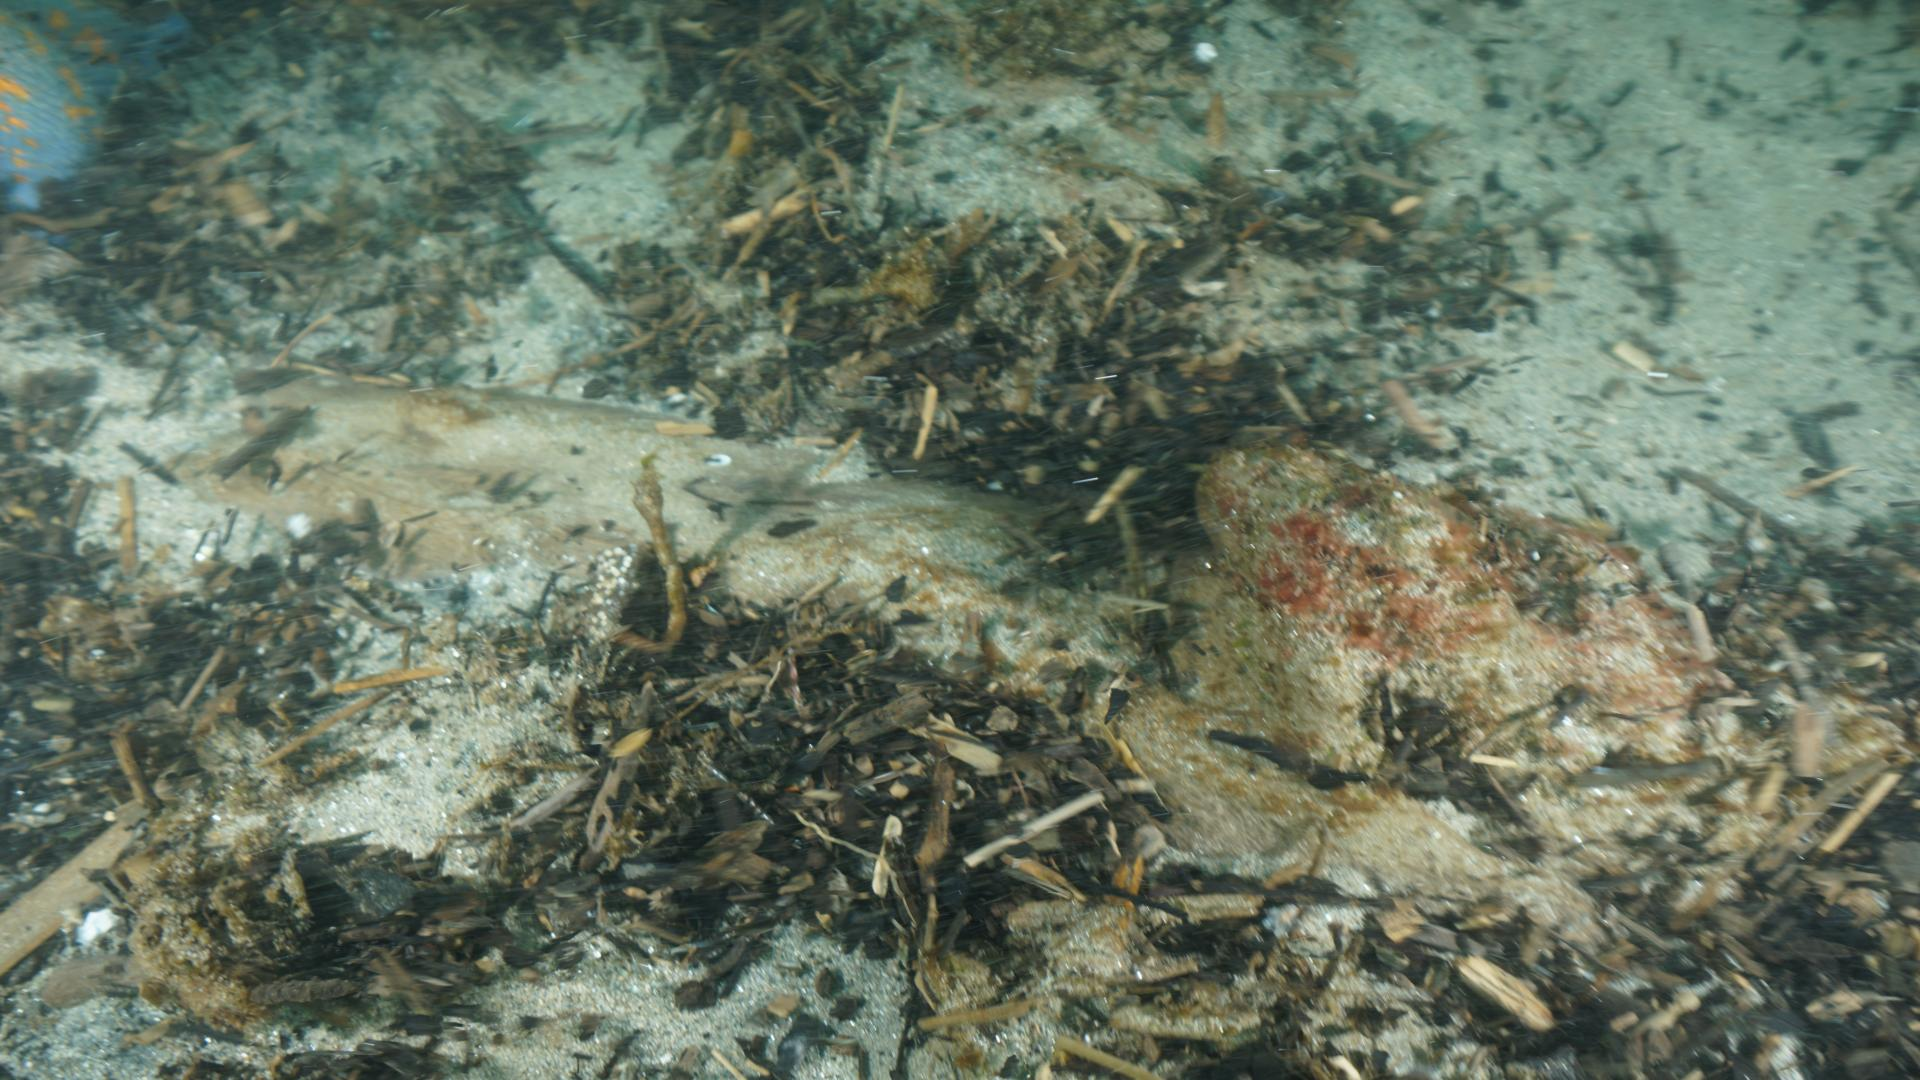wood: (194, 361, 1898, 923)
